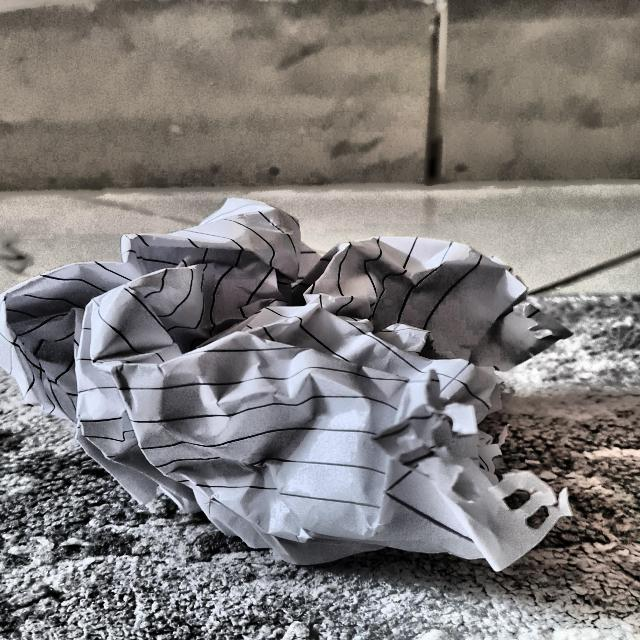paper: (0, 202, 579, 560)
